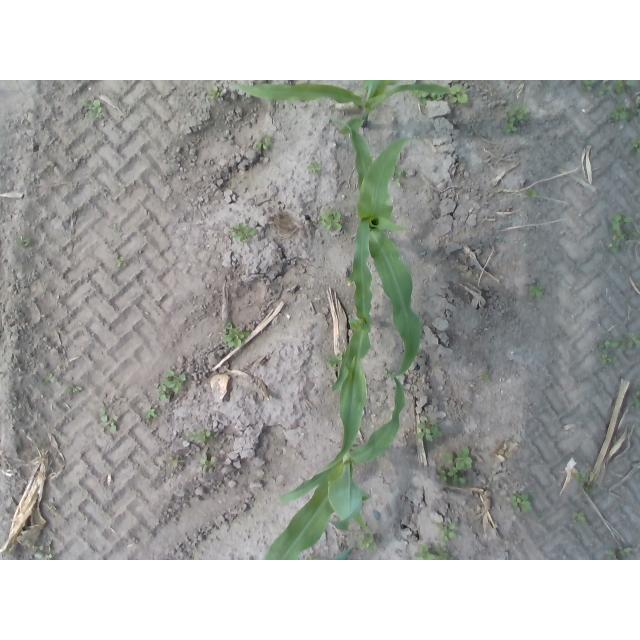Maize: (263, 316, 405, 561), (330, 118, 430, 391), (229, 80, 451, 133), (335, 547, 354, 559)
Weeds: (609, 213, 635, 251), (448, 445, 472, 484), (221, 326, 251, 348), (322, 211, 342, 234), (417, 422, 439, 442), (98, 413, 119, 433), (166, 370, 186, 389), (607, 545, 632, 559), (440, 521, 457, 541), (607, 109, 637, 120), (233, 224, 256, 238), (508, 104, 526, 121), (452, 85, 467, 105), (512, 495, 530, 510), (413, 543, 431, 558), (87, 99, 101, 118), (159, 386, 173, 404), (201, 449, 216, 465), (434, 543, 450, 557), (254, 137, 270, 151), (187, 429, 206, 440), (308, 157, 321, 173), (628, 334, 640, 350), (598, 342, 619, 351), (169, 456, 183, 469), (360, 535, 376, 546), (571, 509, 585, 521), (529, 285, 543, 296), (629, 398, 640, 410), (208, 86, 219, 98), (114, 254, 125, 266), (437, 469, 448, 480), (330, 353, 341, 364), (576, 473, 584, 487), (147, 408, 157, 419), (602, 352, 611, 364), (616, 81, 625, 93), (584, 80, 596, 89), (600, 85, 609, 96), (71, 384, 82, 393), (527, 189, 536, 200), (508, 123, 517, 134), (632, 139, 640, 151), (23, 239, 33, 248), (50, 374, 56, 383)
